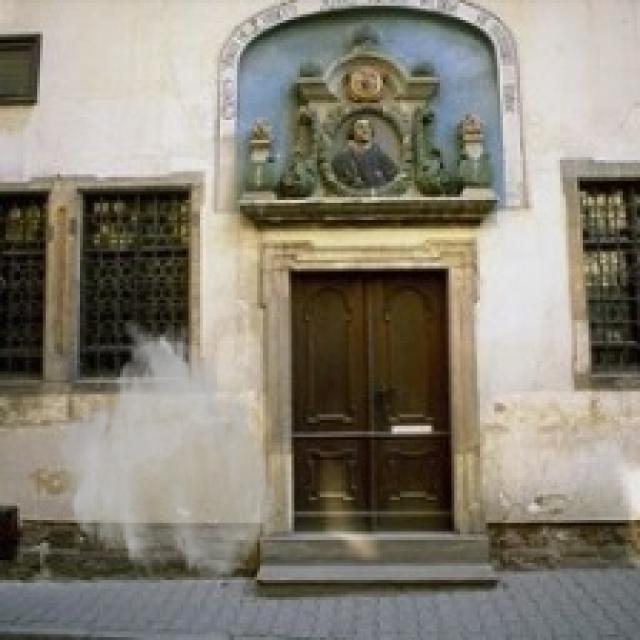smoke: (54, 314, 277, 586)
